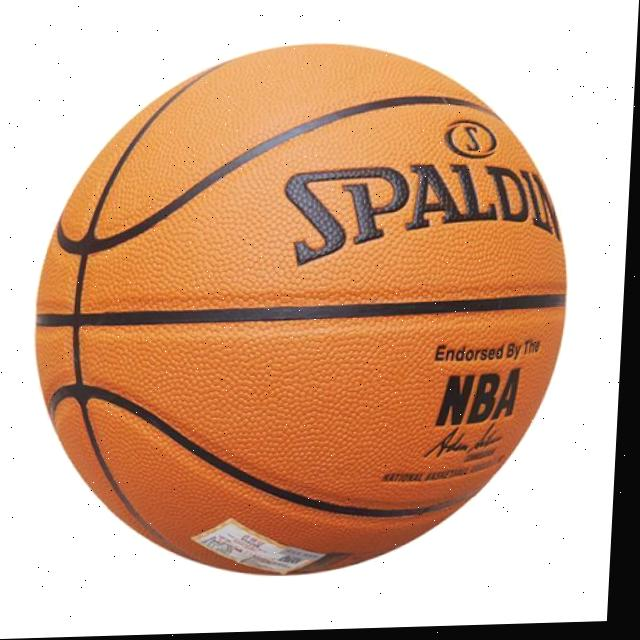Basketball: (16, 30, 585, 582)
